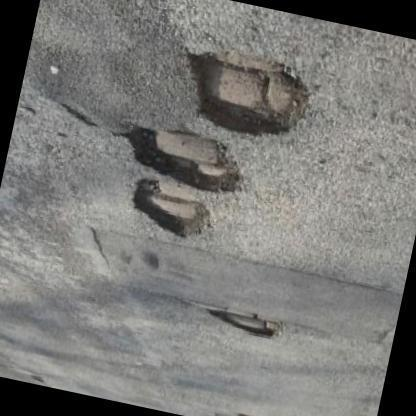pothole: (189, 40, 309, 136), (124, 121, 242, 195), (133, 178, 212, 240), (209, 303, 284, 337)
